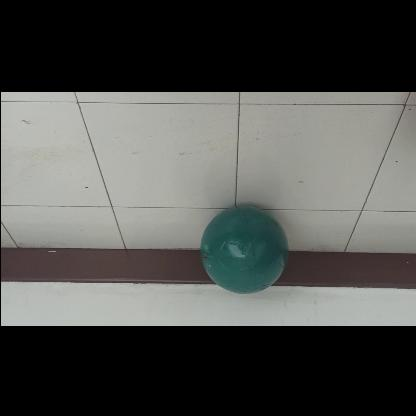green_ball: (202, 207, 288, 293)
